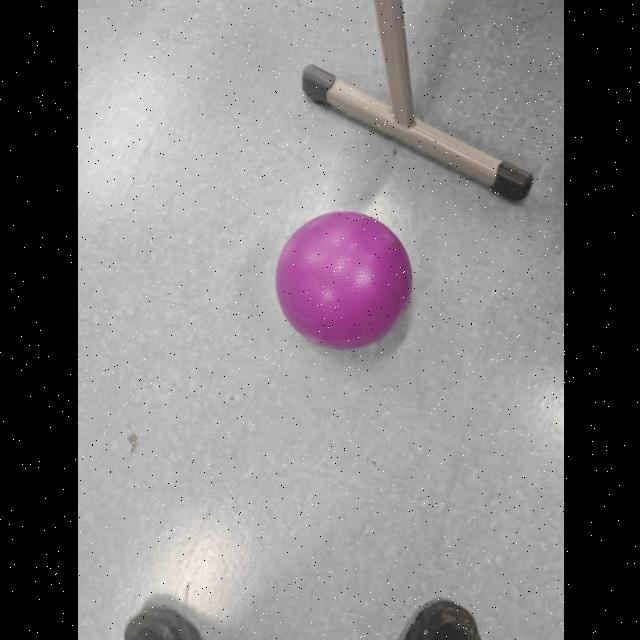P: (272, 208, 414, 350)
